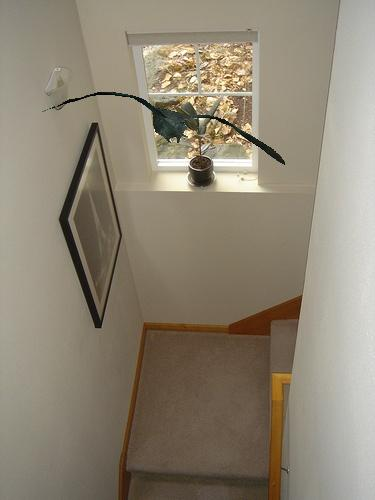tampered: (43, 93, 285, 165)
